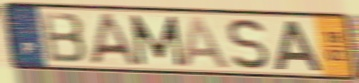A: (179, 14, 235, 71), (90, 12, 141, 67), (273, 20, 324, 72)
B: (39, 10, 90, 65)
M: (128, 13, 186, 68)
S: (226, 17, 272, 71)
